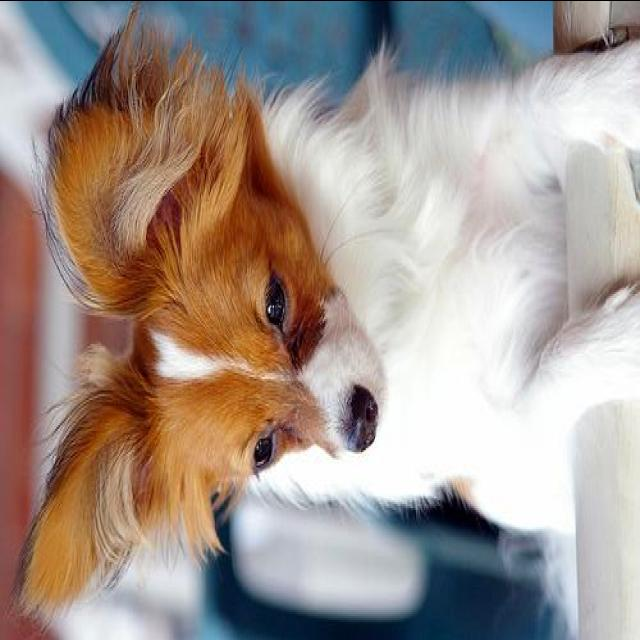papillon: (8, 1, 638, 624)
